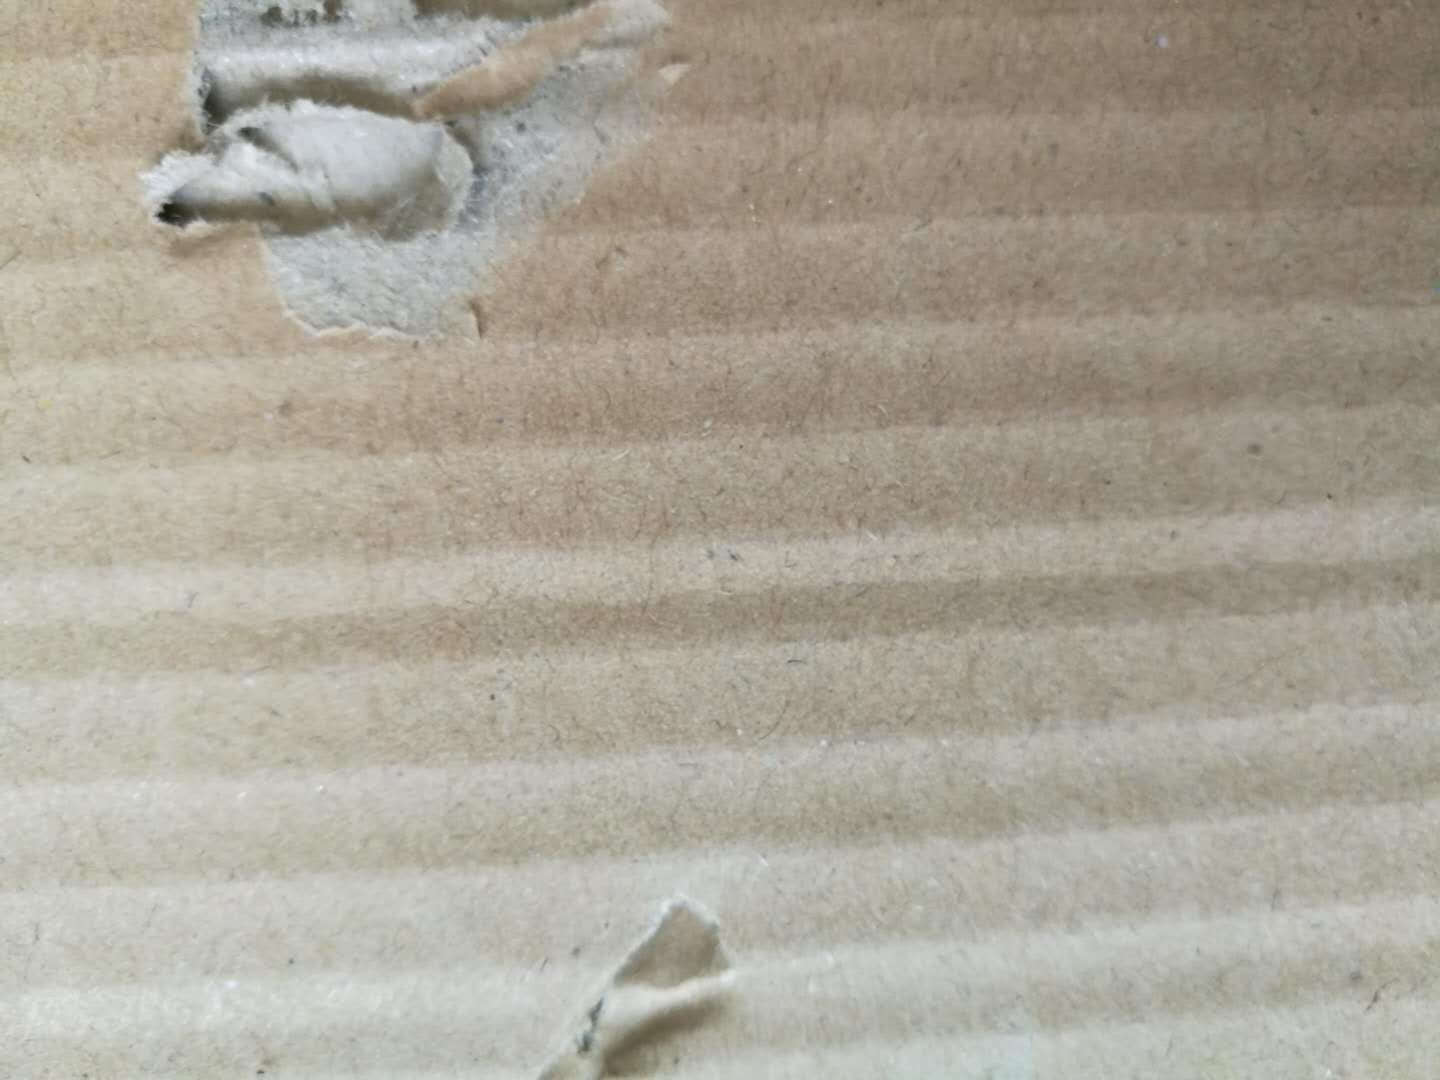defect: (126, 1, 714, 387), (498, 874, 801, 1080)
